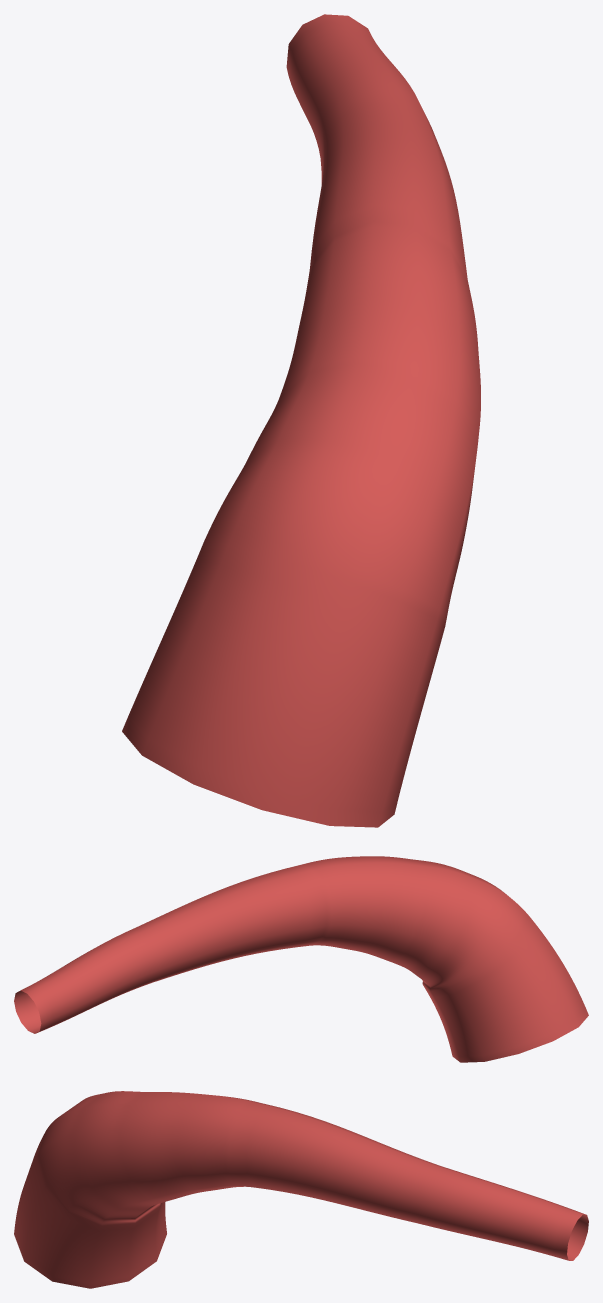
3 views of the same model, one above another, from view 1: azimuth 30°, elevation 25°; view 2: azimuth 150°, elevation 25°; view 3: azimuth 270°, elevation 25° (orthographic). The views are drawn at different scales.
Visible parts, largest first — view 1: 左肺动脉; view 2: 左肺动脉; view 3: 左肺动脉.
Boxes of the visible parts, <box> form: 左肺动脉: <box>122,14,480,827</box>; 左肺动脉: <box>14,856,588,1062</box>; 左肺动脉: <box>14,1091,588,1288</box>.
Size of the model in its own units: 0.0993 by 0.0587 by 0.1355.
